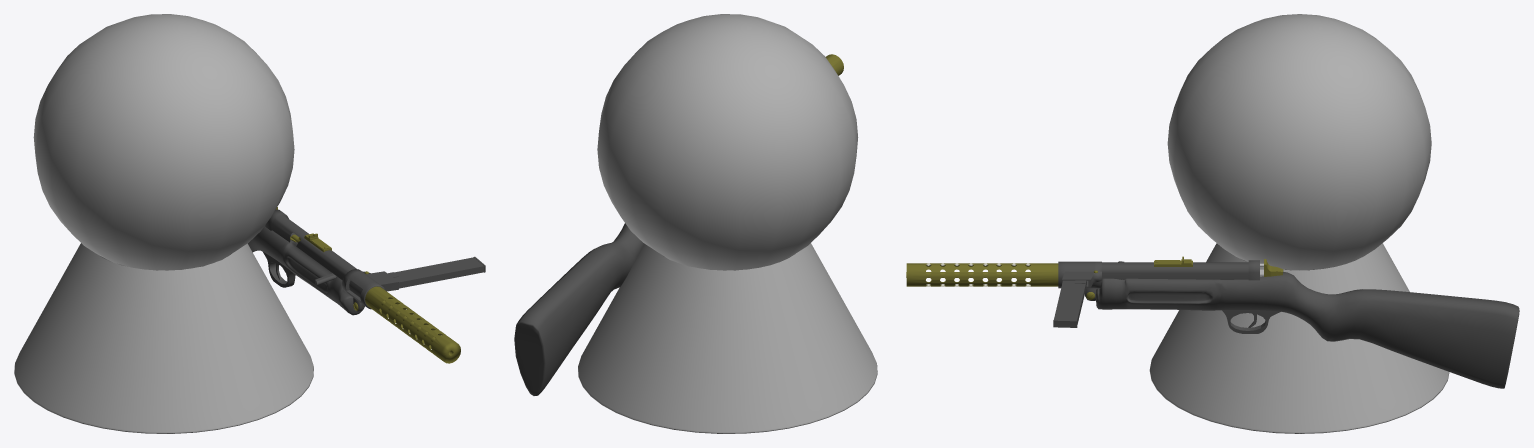
3 views of the same model, side by side, from view 1: azimuth 30°, elevation 25°; view 2: azimuth 150°, elevation 25°; view 3: azimuth 270°, elevation 25° (orthographic).
Parts seen in each view (by area): view 1: polySurface8, polySurface7, polySurface11, polySurface12, polySurface16, polySurface23, polySurface21, polySurface26; view 2: polySurface8, polySurface7, polySurface11; view 3: polySurface8, polySurface7, polySurface11, polySurface12, polySurface16, polySurface23, polySurface21, polySurface26.
Part boxes in pixels (box(x1,y1,x2,y2)): polySurface8: box(33, 14, 294, 270); polySurface7: box(14, 243, 313, 433); polySurface11: box(230, 225, 364, 315); polySurface12: box(365, 286, 460, 363); polySurface16: box(265, 209, 356, 279); polySurface23: box(388, 256, 485, 288); polySurface21: box(342, 269, 398, 309); polySurface26: box(263, 252, 295, 287); polySurface8: box(597, 14, 858, 270); polySurface7: box(578, 243, 877, 433); polySurface11: box(514, 223, 643, 395); polySurface8: box(1167, 14, 1431, 270); polySurface7: box(1149, 243, 1449, 433); polySurface11: box(1096, 272, 1519, 388); polySurface12: box(906, 263, 1058, 286); polySurface16: box(1102, 260, 1259, 280); polySurface23: box(1053, 280, 1086, 327); polySurface21: box(1058, 261, 1101, 288); polySurface26: box(1222, 310, 1280, 333).
Bounding box in the file's own units: 99.6 × 99.62 × 160.
